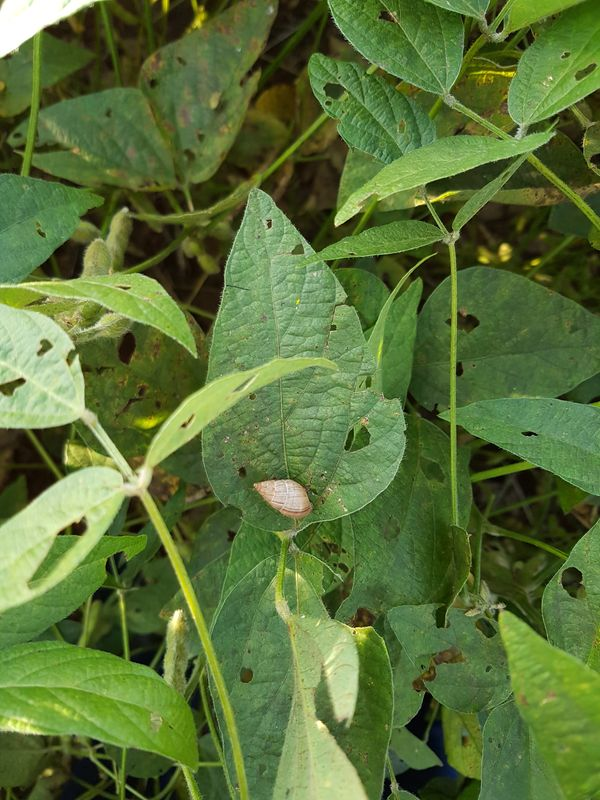Gastropoda: (240, 465, 325, 534)
